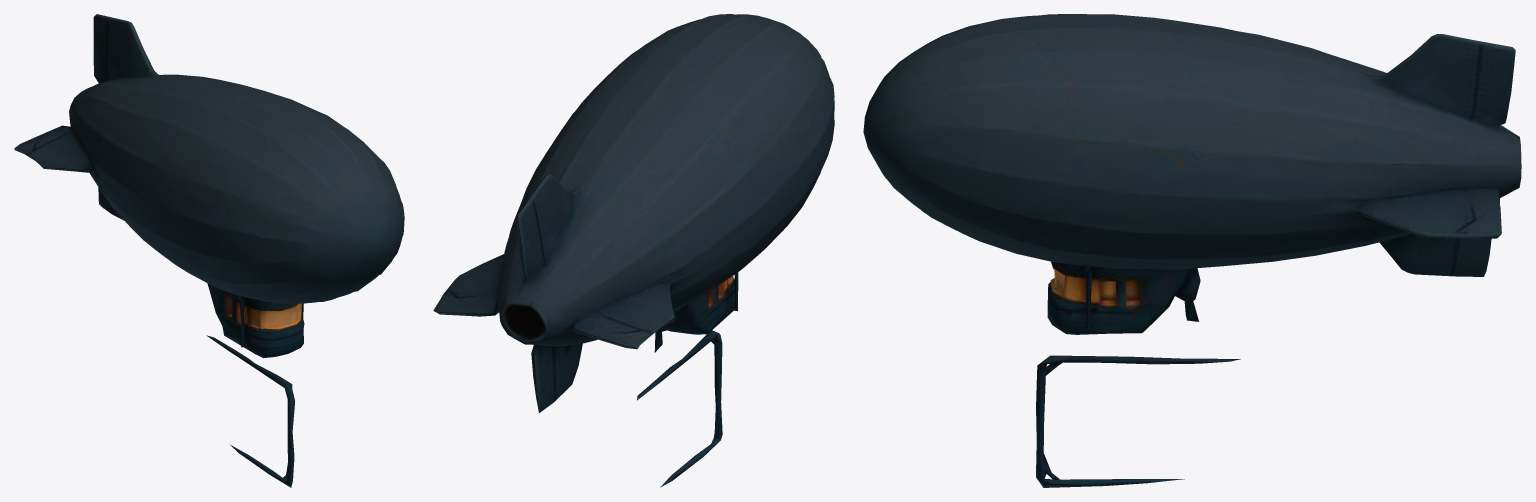
File: sterowiec.glb
The picture shows the model from 3 angles, left to right: view 1: azimuth 30°, elevation 25°; view 2: azimuth 150°, elevation 25°; view 3: azimuth 270°, elevation 25°; orthographic projection. The views are drawn at different scales.
Visible parts, largest first — view 1: tripo_node_1951232a-ed7c-4544-86d3-71dd5bde4fbe; view 2: tripo_node_1951232a-ed7c-4544-86d3-71dd5bde4fbe; view 3: tripo_node_1951232a-ed7c-4544-86d3-71dd5bde4fbe.
Boxes of the visible parts, <box> form: tripo_node_1951232a-ed7c-4544-86d3-71dd5bde4fbe: <box>14,14,404,487</box>; tripo_node_1951232a-ed7c-4544-86d3-71dd5bde4fbe: <box>433,14,834,487</box>; tripo_node_1951232a-ed7c-4544-86d3-71dd5bde4fbe: <box>863,14,1521,487</box>.
Size of the model in its own units: 0.4373 by 0.7752 by 1.
Materials: 1 (1 with a texture image).
